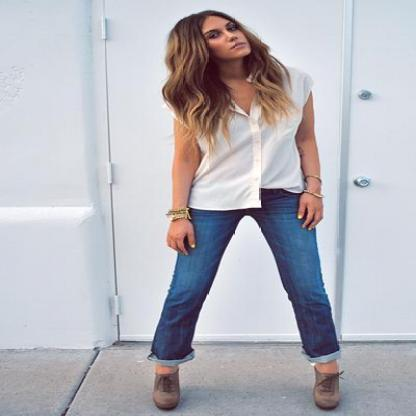pants: (148, 188, 336, 360)
shirt: (189, 61, 314, 209)
shoe: (151, 368, 343, 411)
